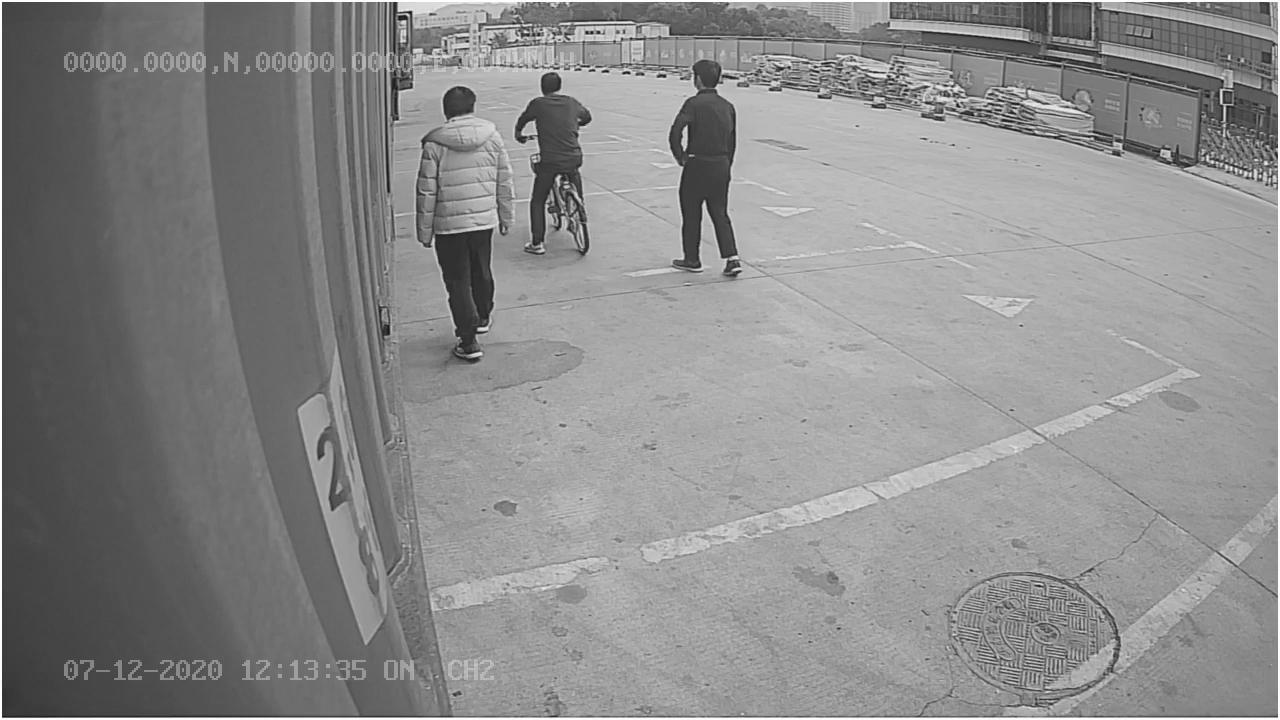person: (414, 87, 519, 360), (668, 55, 747, 277)
